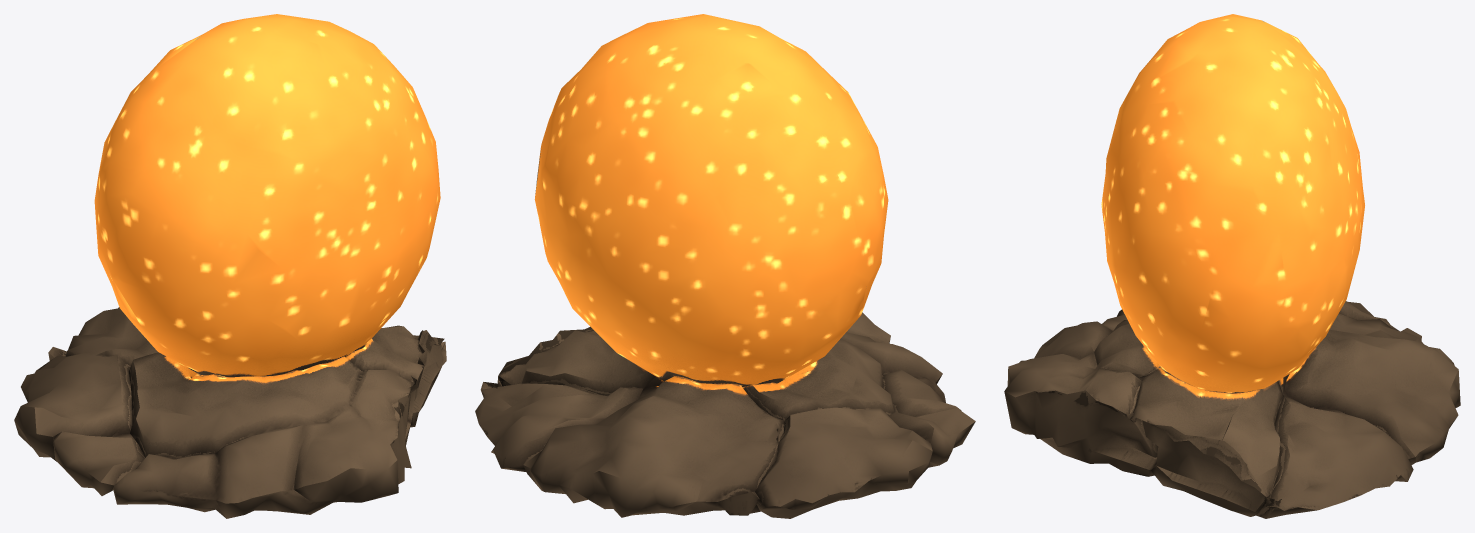
Rendered from piedra_solar.fbx.
3 renders of one model, left to right at view 1: azimuth 30°, elevation 25°; view 2: azimuth 150°, elevation 25°; view 3: azimuth 270°, elevation 25°, orthographic. The views are drawn at different scales.
Visible parts, largest first — view 1: piedra_solar; view 2: piedra_solar; view 3: piedra_solar.
Part boxes in pixels (x1=…): piedra_solar: x1=14, y1=14, x2=446, y2=518; piedra_solar: x1=475, y1=14, x2=975, y2=518; piedra_solar: x1=1004, y1=14, x2=1460, y2=518.
Size of the model in its own units: 2.33 by 2.12 by 2.18.
Materials: 1 (1 with a texture image).
